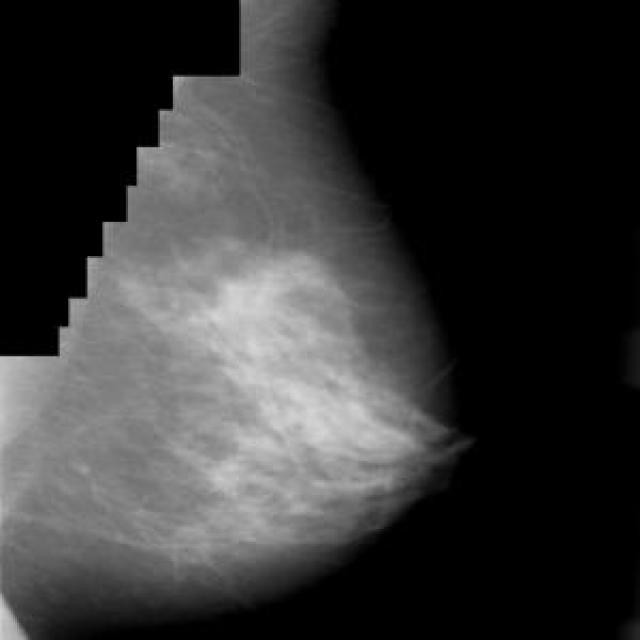tumor: (186, 236, 401, 526)
